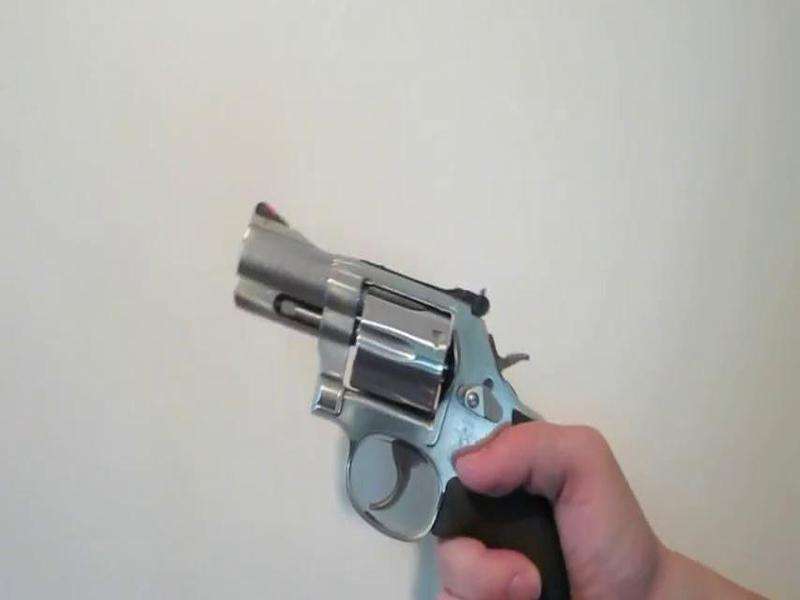Revolver: (225, 162, 597, 600)
